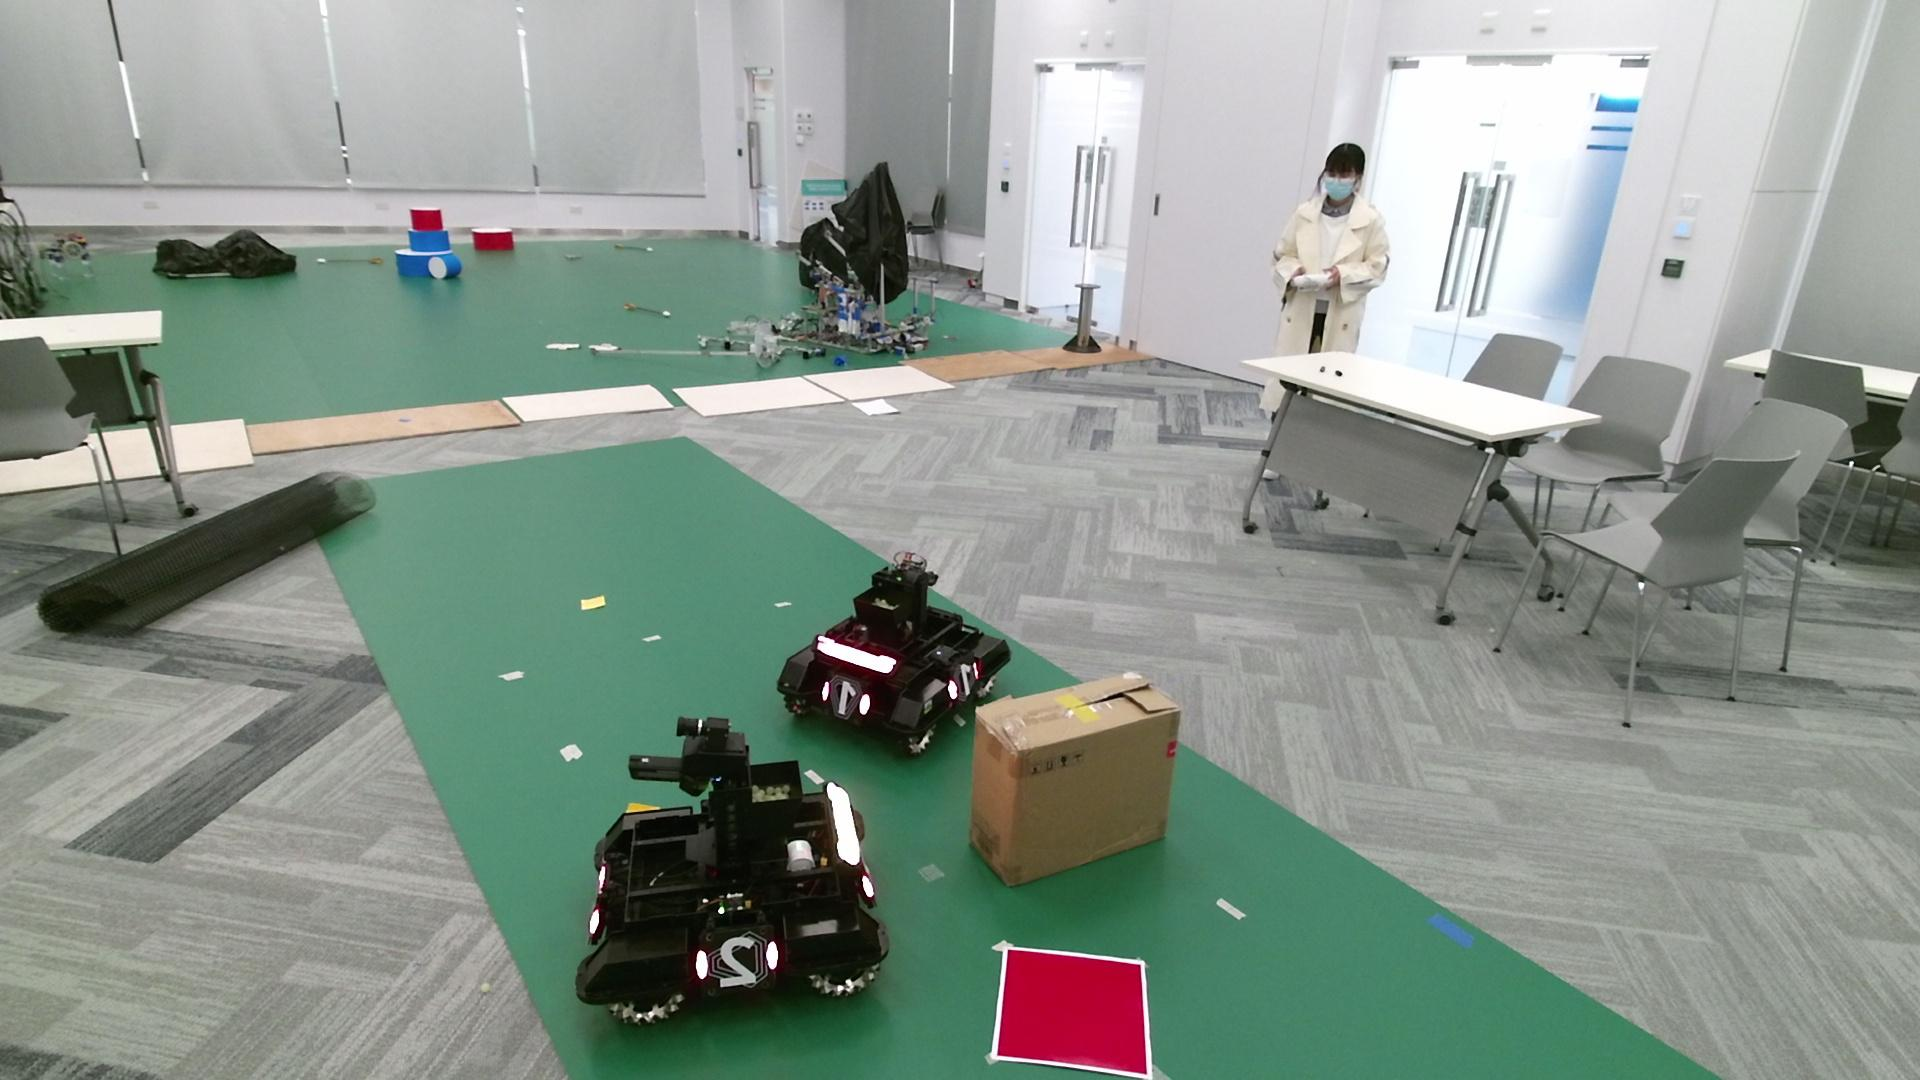robot: (574, 715, 891, 1029), (775, 558, 1013, 756)
